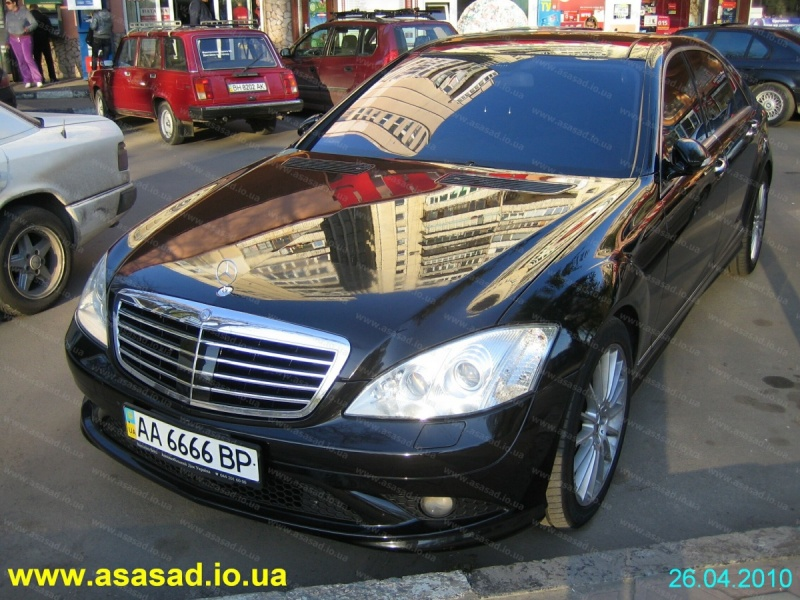car: (66, 27, 773, 548)
plate: (122, 400, 258, 484)
